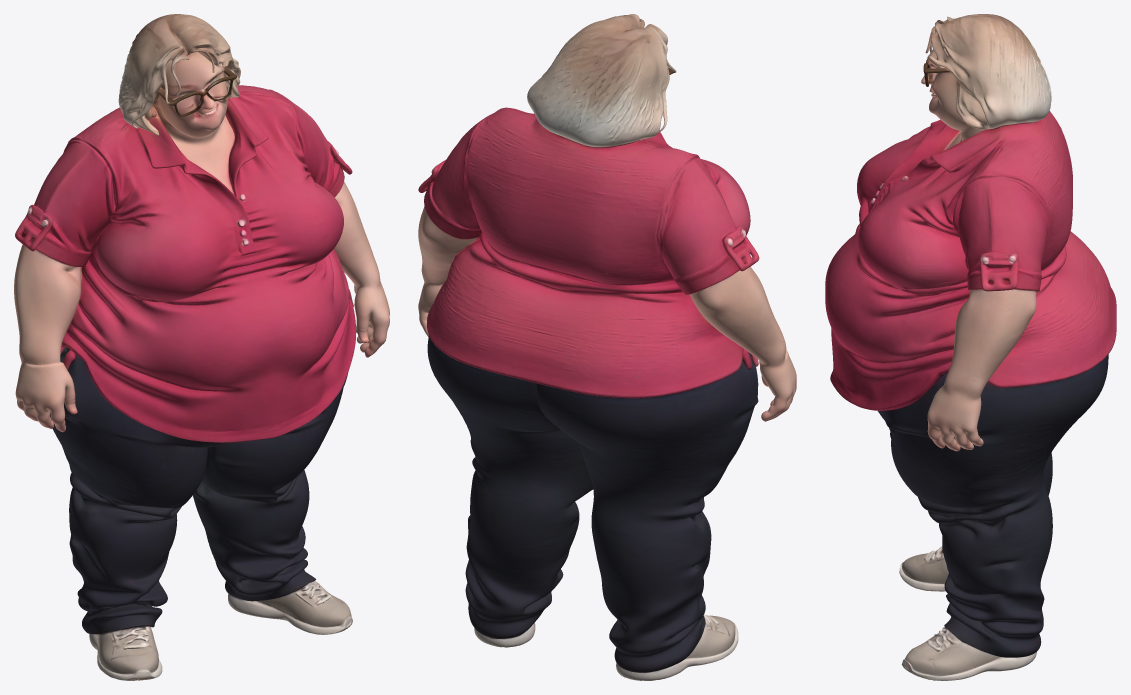
File: boss.glb
The picture shows the model from 3 angles, left to right: view 1: azimuth 30°, elevation 25°; view 2: azimuth 150°, elevation 25°; view 3: azimuth 270°, elevation 25°; orthographic projection. The views are drawn at different scales.
Visible parts, largest first — view 1: model; view 2: model; view 3: model.
Boxes of the visible parts, x1=… form: model: x1=14, y1=14, x2=389, y2=680; model: x1=418, y1=14, x2=796, y2=680; model: x1=825, y1=14, x2=1116, y2=680.
Bounding box in the file's own units: 1.18 × 1.9 × 0.839.
1 material, 1 textured.
